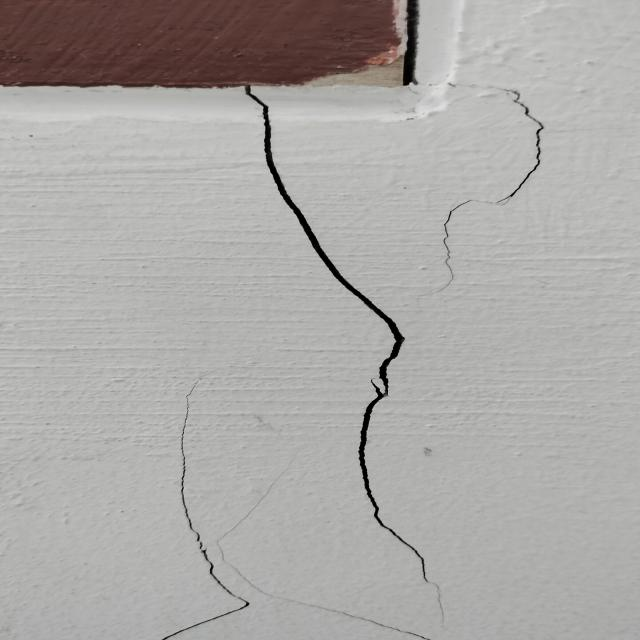Crack: (256, 92, 433, 582)
